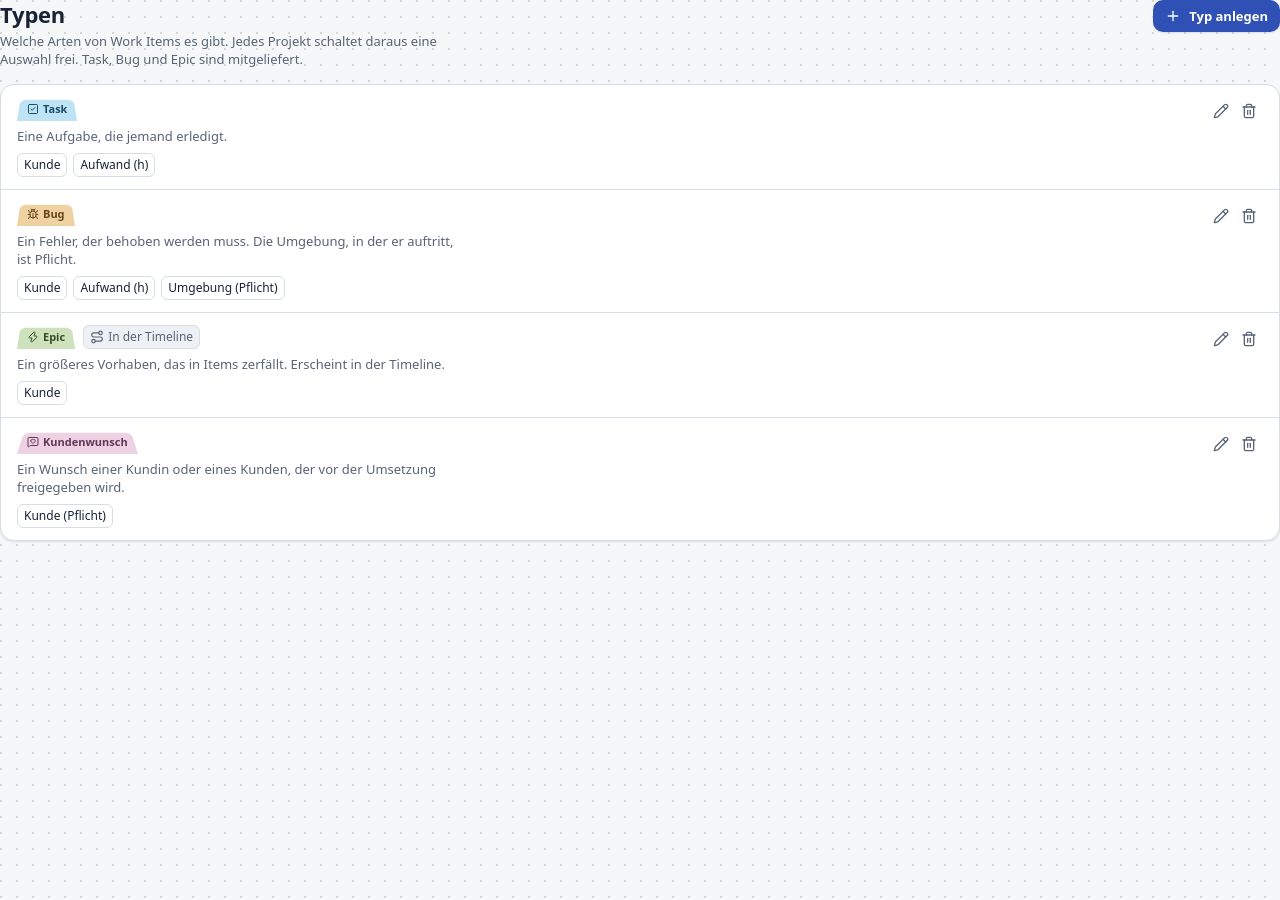
Test case: Types › says when every property is added already
What coordinates should you click on to do the following:
click the button named "Typ „Bug“ bearbeiten"
I would click on:
 (1221, 216)
Its box is [1207, 202, 1235, 230].
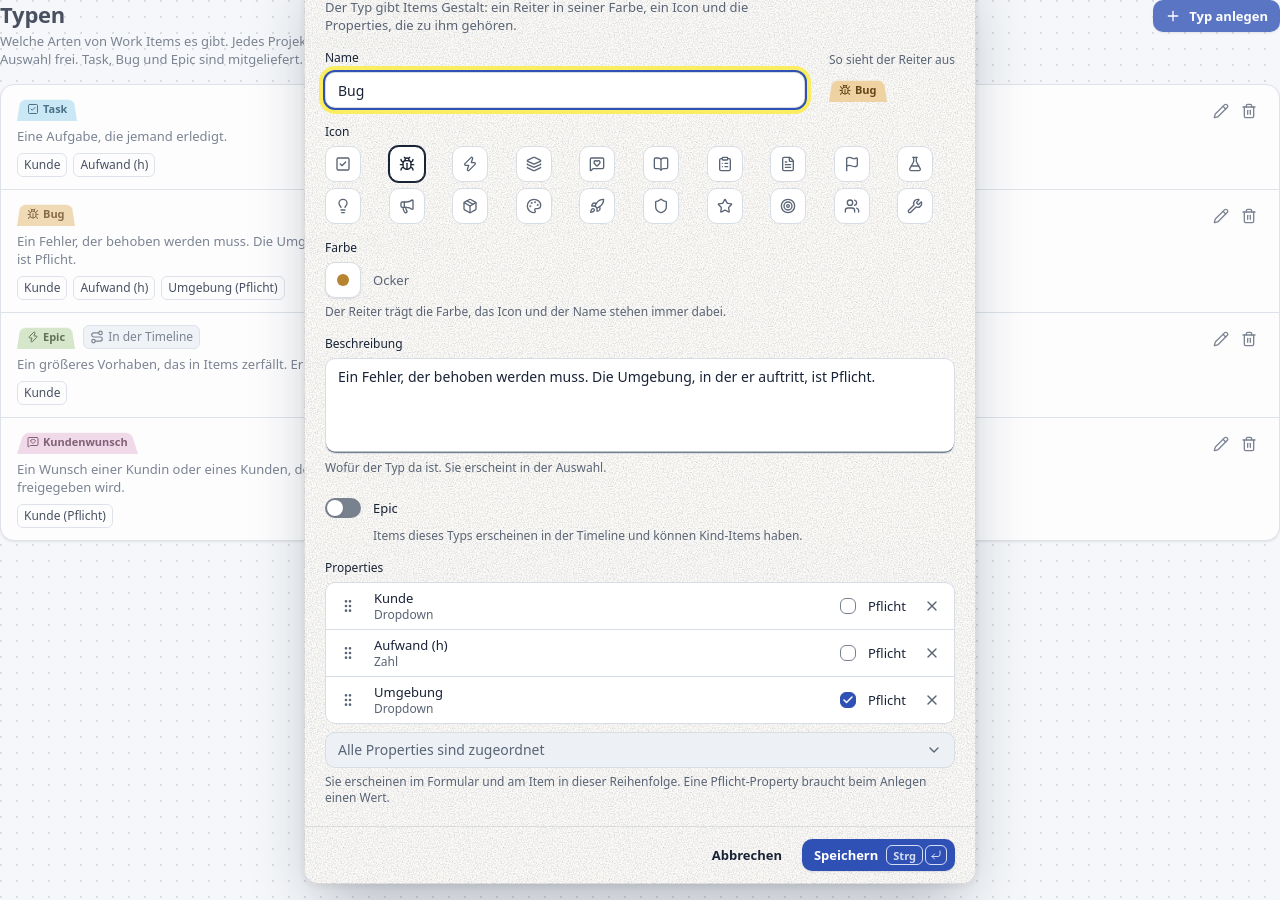
Check: the dropdown named "Property hinzufügen" reads "Alle Properties sind zugeordnet", box [325, 732, 955, 768]
